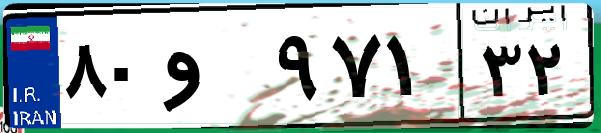0: (110, 28, 158, 98)
1: (385, 28, 445, 110)
2: (525, 38, 570, 115)
3: (475, 38, 525, 113)
7: (330, 28, 385, 110)
8: (57, 26, 110, 100)
9: (270, 28, 330, 110)
و: (158, 20, 270, 120)
